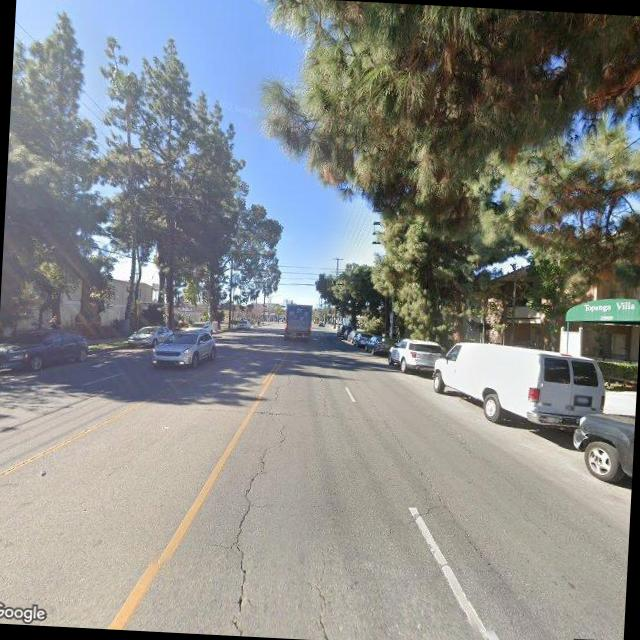pothole: (222, 364, 296, 632), (305, 545, 340, 640)
